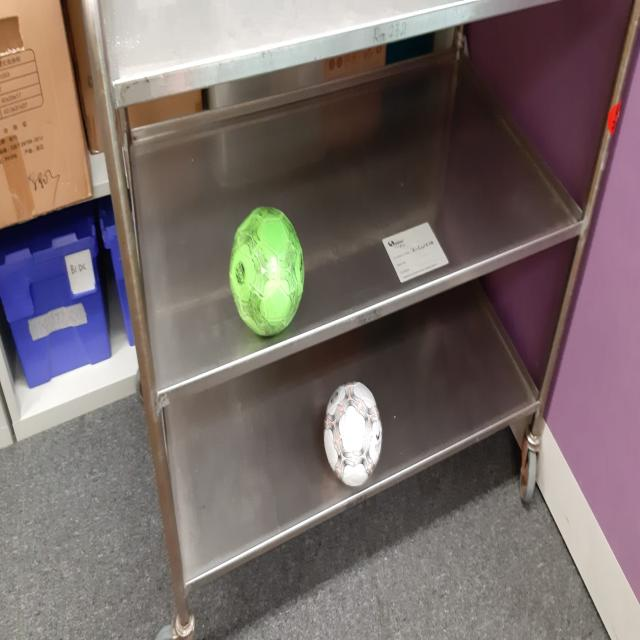ball: (230, 205, 306, 340), (322, 381, 382, 488)
